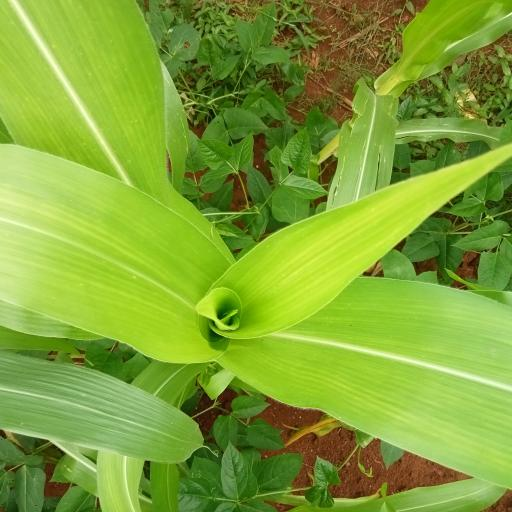Corn_Brown_Spots: (0, 150, 512, 480)
